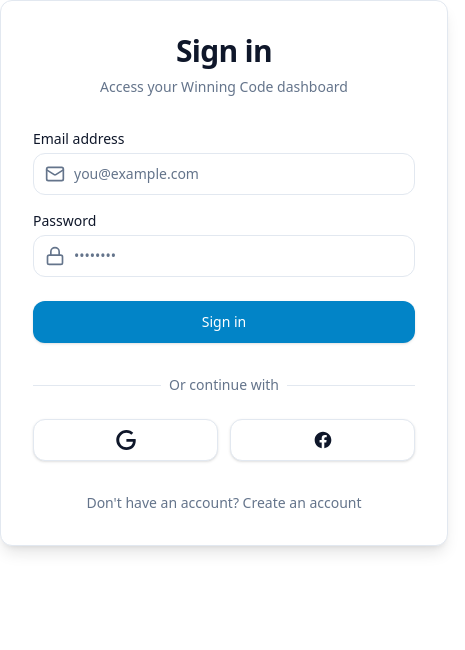
it: LoginForm › displays error message on login failure
This screenshot has width=465, height=650.
Type "wrong@example.com" into the field labelled "Email address" at (224, 174), box [33,153,415,195]
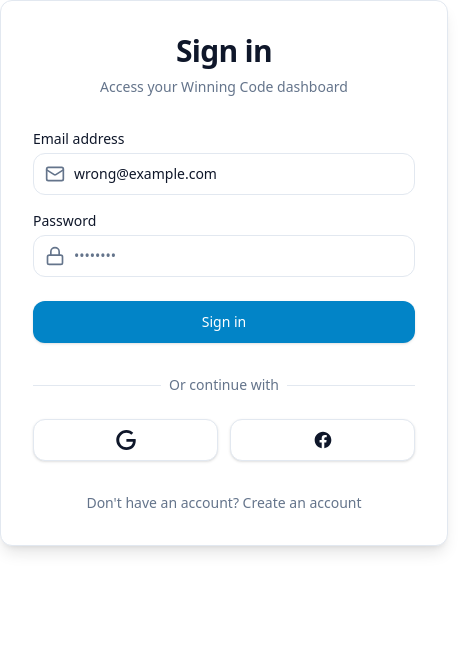
Type "wrongpass" into the password field labelled "Password" at (224, 256), box [33,235,415,277]
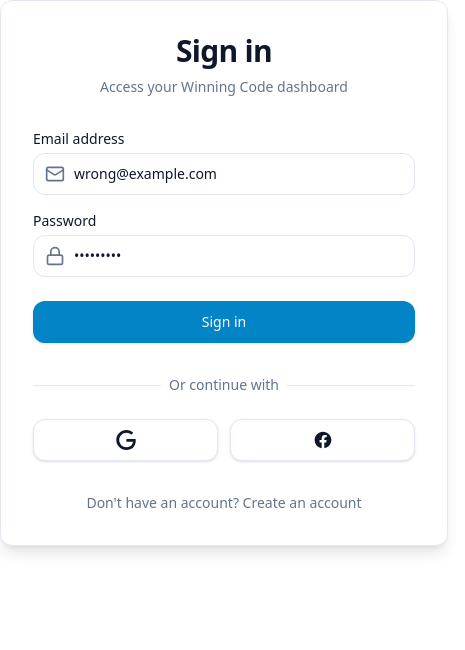
Click the button "Sign in" at (224, 322), box [33,301,415,343]
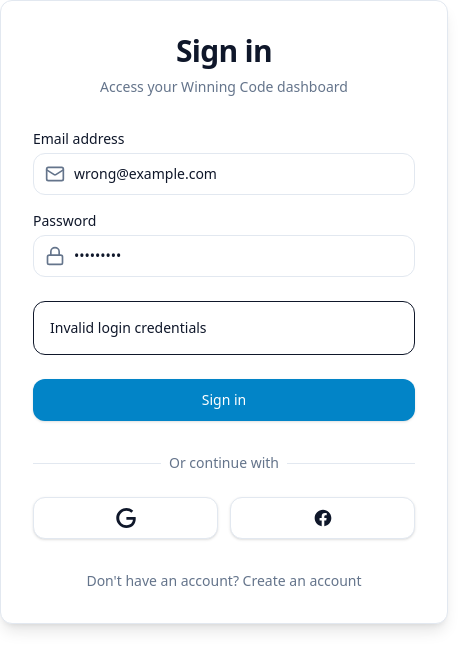
Now the text "Invalid login credentials" is shown, box [50,318,207,338]
